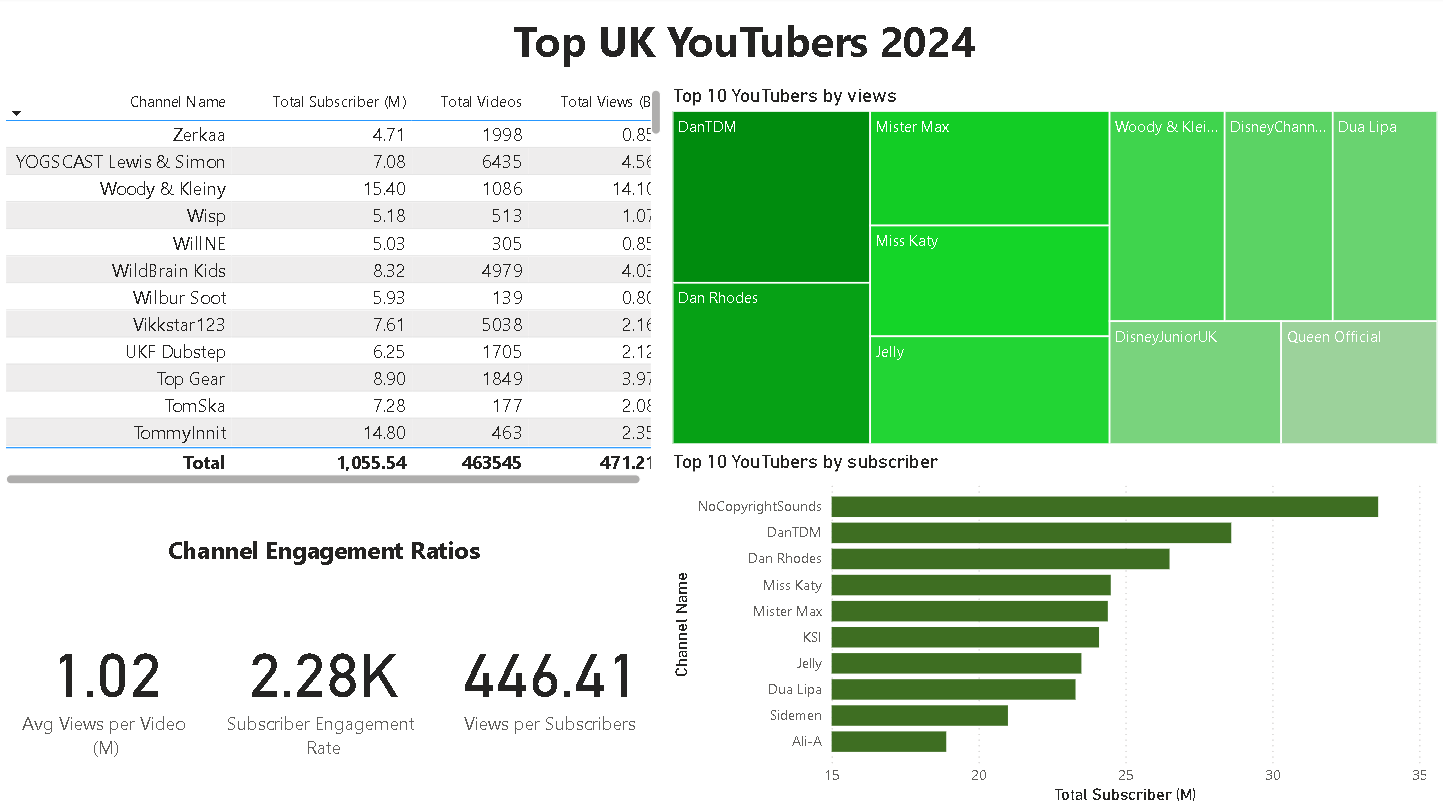

The page's visual inventory and layout, read from the dashboard file:
{"tool":"powerbi","page":{"name":"Page 1","canvas":[1280,720],"ordinal":0},"visuals":[{"type":"textbox","box":[450.7,7.9,420.1,69.2],"z":0},{"type":"tableEx","fields":{"Values":["view_uk_youtubers_2024.channel_name","view_uk_youtubers_2024.Total Subscriber (M)","view_uk_youtubers_2024.Total Videos","view_uk_youtubers_2024.Total Views (B)"]},"box":[0,77.1,592.1,359.8],"z":1000},{"type":"treemap","title":"Top 10 YouTubers by views","fields":{"Group":["view_uk_youtubers_2024.channel_name"],"Values":["view_uk_youtubers_2024.Total Views (B)"]},"box":[592.1,77.1,687.9,324.2],"z":2000},{"type":"card","fields":{"Values":["view_uk_youtubers_2024.Avg Views per Video (M)"]},"box":[0,491.2,189.8,228.3],"z":2001},{"type":"card","fields":{"Values":["view_uk_youtubers_2024.Subscriber Engagement Rate"]},"box":[189.8,491.2,195.7,228.3],"z":2002},{"type":"card","fields":{"Values":["view_uk_youtubers_2024.Views per Subscribers"]},"box":[385.5,491.2,206.6,228.3],"z":2003},{"type":"clusteredBarChart","title":"Top 10 YouTubers by subscriber","fields":{"Category":["view_uk_youtubers_2024.channel_name"],"Y":["view_uk_youtubers_2024.Total Subscriber (M)"]},"box":[592.1,401.3,678.1,318.3],"z":2004},{"type":"textbox","box":[137.4,469.5,300.5,42.5],"z":2005}]}

Visuals, with their boxes in screenshot pixels (x1, y1, x2, y2), scaled from the page's 1280x720 canvas onto the 1443x808 screenshot:
textbox: [x1=508, y1=9, x2=982, y2=87]
tableEx - view_uk_youtubers_2024.channel_name x view_uk_youtubers_2024.Total Subscriber (M): [x1=0, y1=87, x2=668, y2=490]
"Top 10 YouTubers by views" treemap: [x1=668, y1=87, x2=1442, y2=450]
card - view_uk_youtubers_2024.Avg Views per Video (M): [x1=0, y1=551, x2=214, y2=807]
card - view_uk_youtubers_2024.Subscriber Engagement Rate: [x1=214, y1=551, x2=435, y2=807]
card - view_uk_youtubers_2024.Views per Subscribers: [x1=435, y1=551, x2=668, y2=807]
"Top 10 YouTubers by subscriber" clusteredBarChart: [x1=668, y1=450, x2=1432, y2=807]
textbox: [x1=155, y1=527, x2=494, y2=575]
